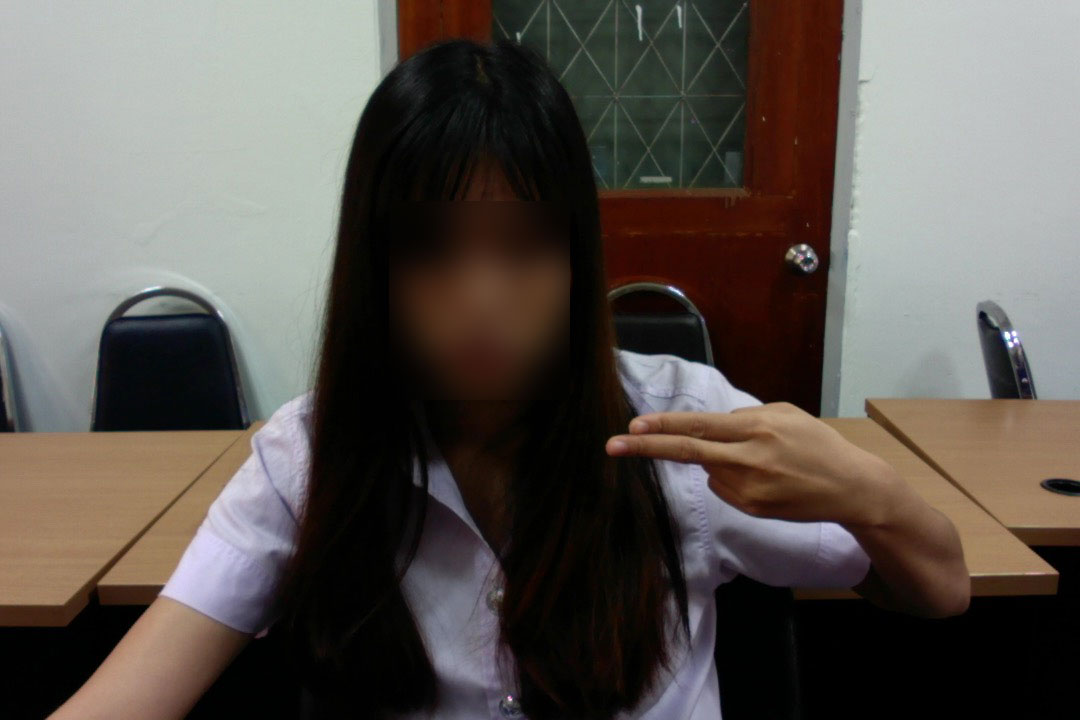hor: (595, 399, 901, 527)
